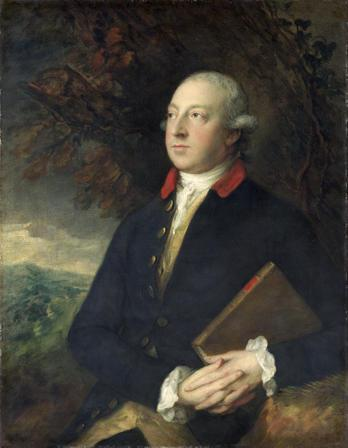person: (61, 71, 348, 442)
